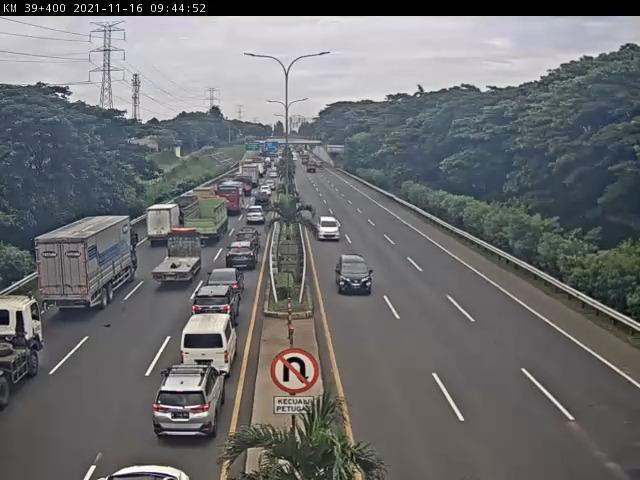bus: (214, 184, 245, 219)
car: (151, 368, 223, 440), (184, 315, 239, 376), (189, 287, 237, 335), (335, 253, 381, 298), (207, 267, 244, 299), (224, 243, 256, 272), (236, 225, 263, 249), (317, 217, 342, 242), (243, 209, 268, 230)
truck: (34, 218, 141, 313), (148, 238, 203, 293), (182, 197, 229, 243), (148, 202, 183, 246), (183, 191, 212, 223)
